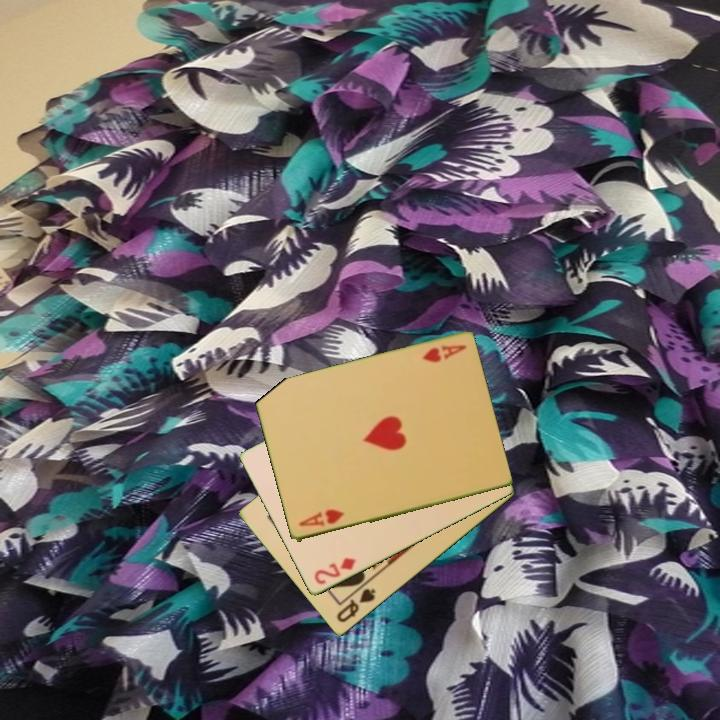2d: (311, 554, 359, 588)
Ah: (295, 506, 347, 530), (419, 342, 469, 366)
Qs: (333, 585, 378, 626)
